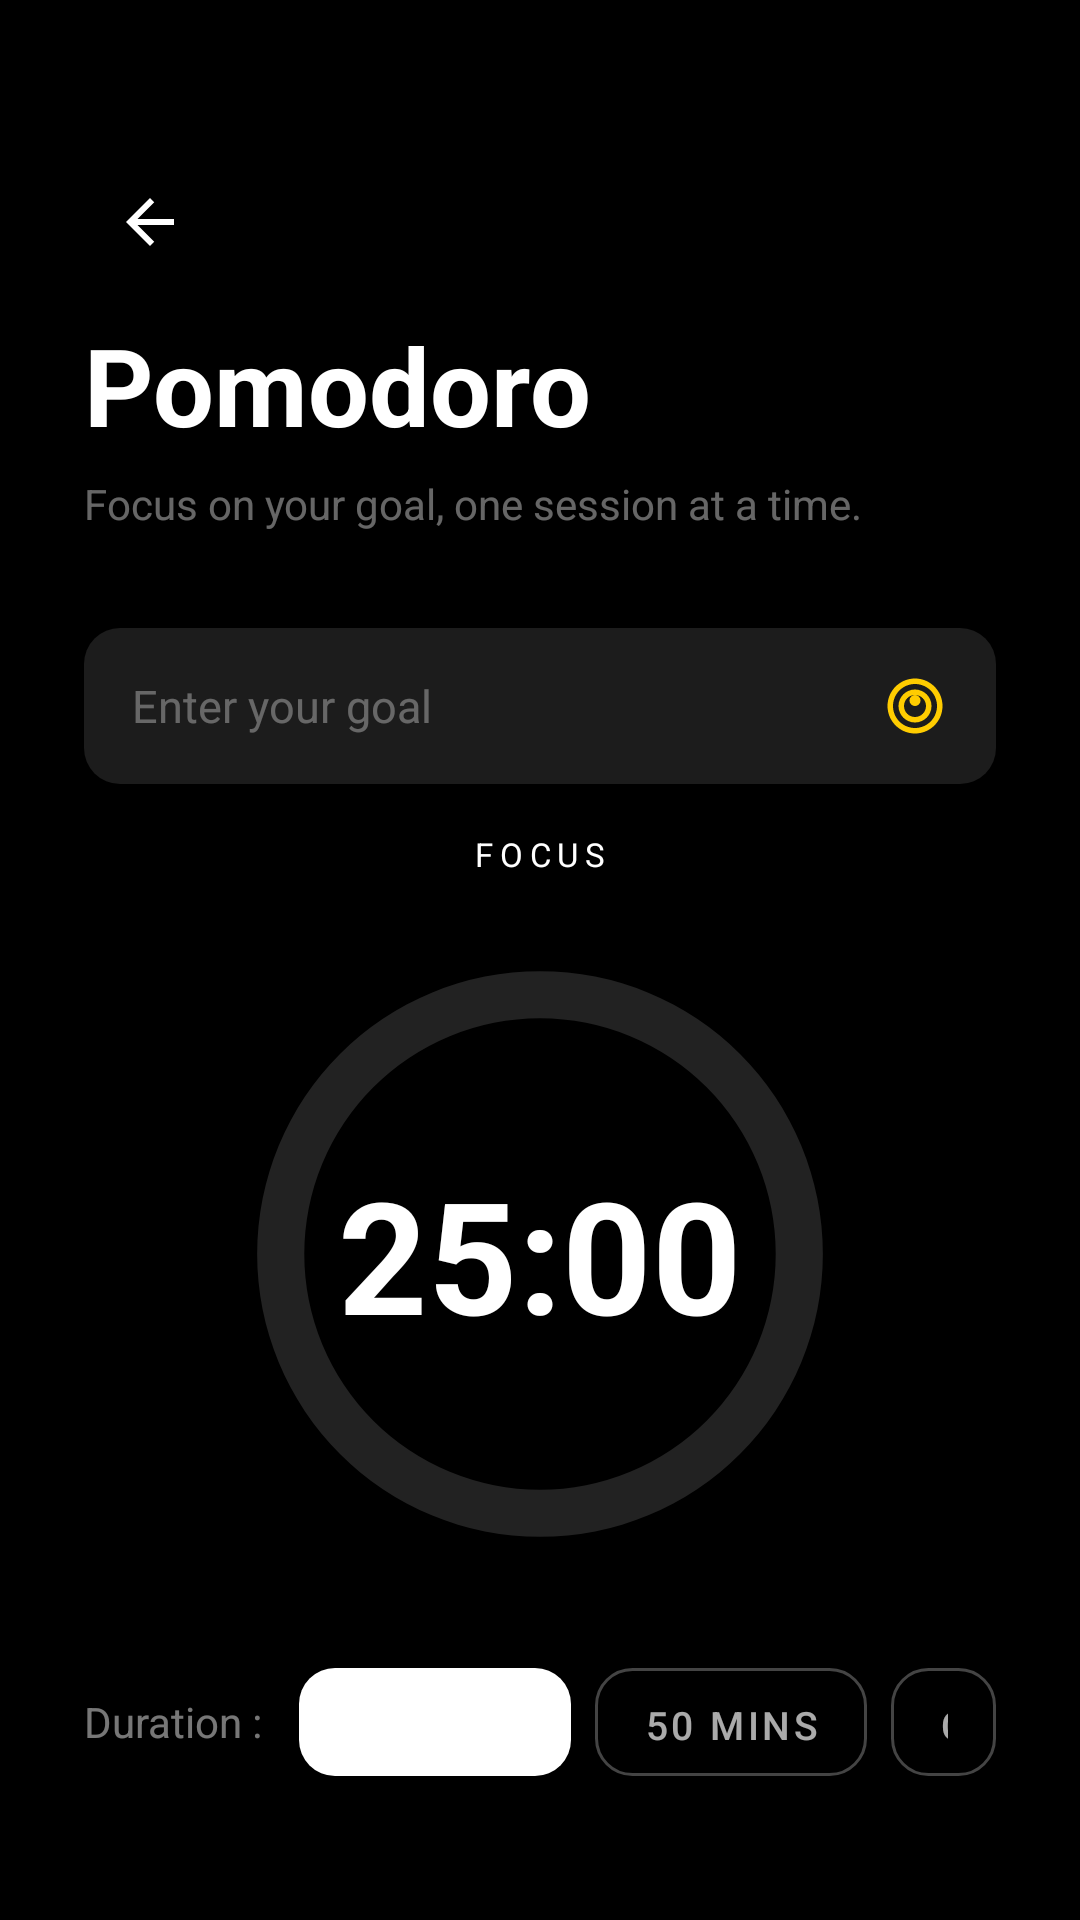

Icons on this 1080x1920 Android screen, each with the point to tap as [x,y]:
Back: [150,222]
